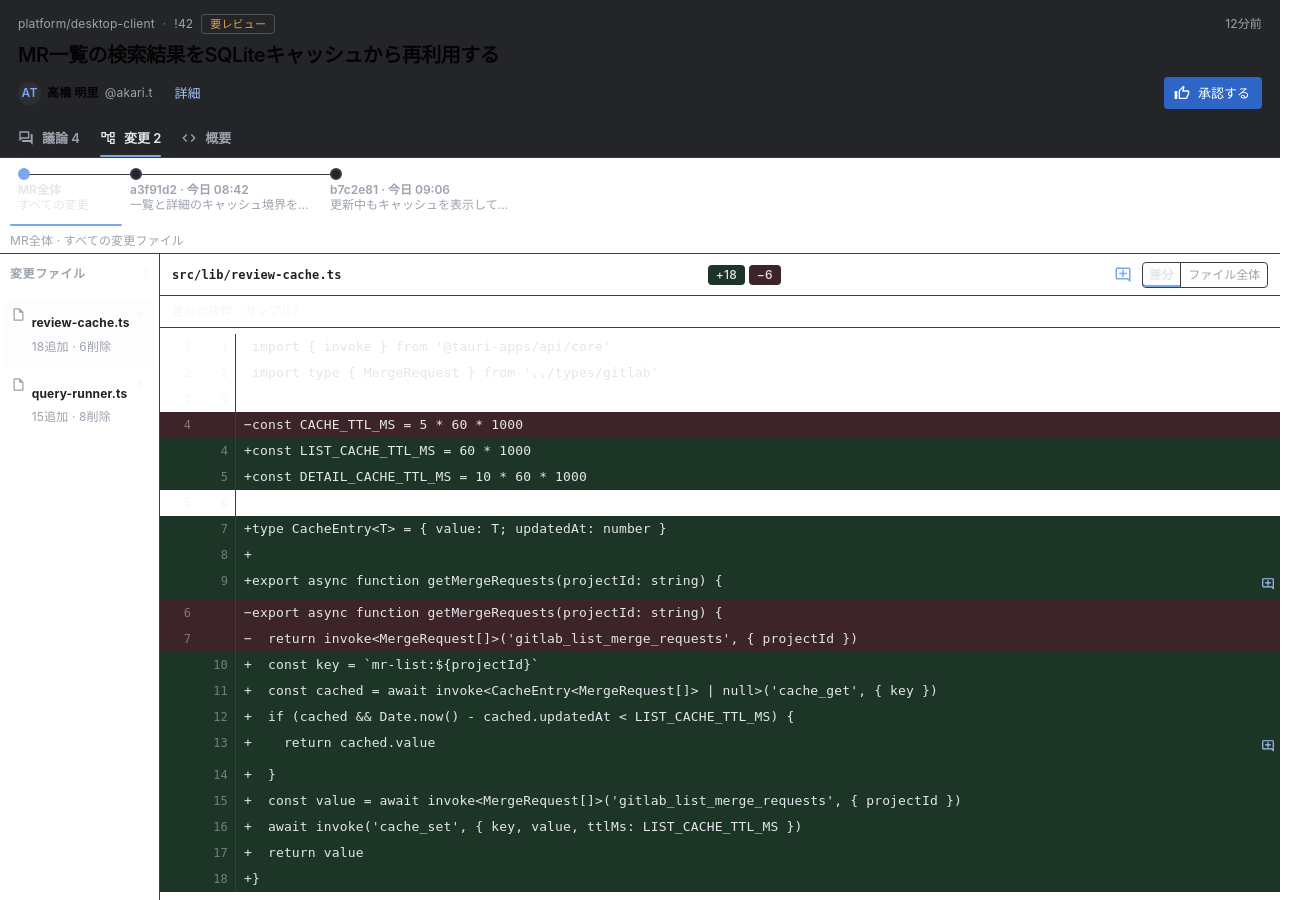
Scenario: MockReviewPane › switches between the full MR and parent-to-selected-commit diffs
The image size is (1292, 900).
Expected: the text "MR全体 · すべての変更ファイル" is shown, left=10, top=233, right=184, bottom=248
What coordinates should you click on to do the following:
click the tab "b7c2e81 · 今日 09:06 更新中もキャッシュを表示して静かに再検証する"
I would click on:
 (422, 193)
Its box is left=322, top=160, right=522, bottom=226.
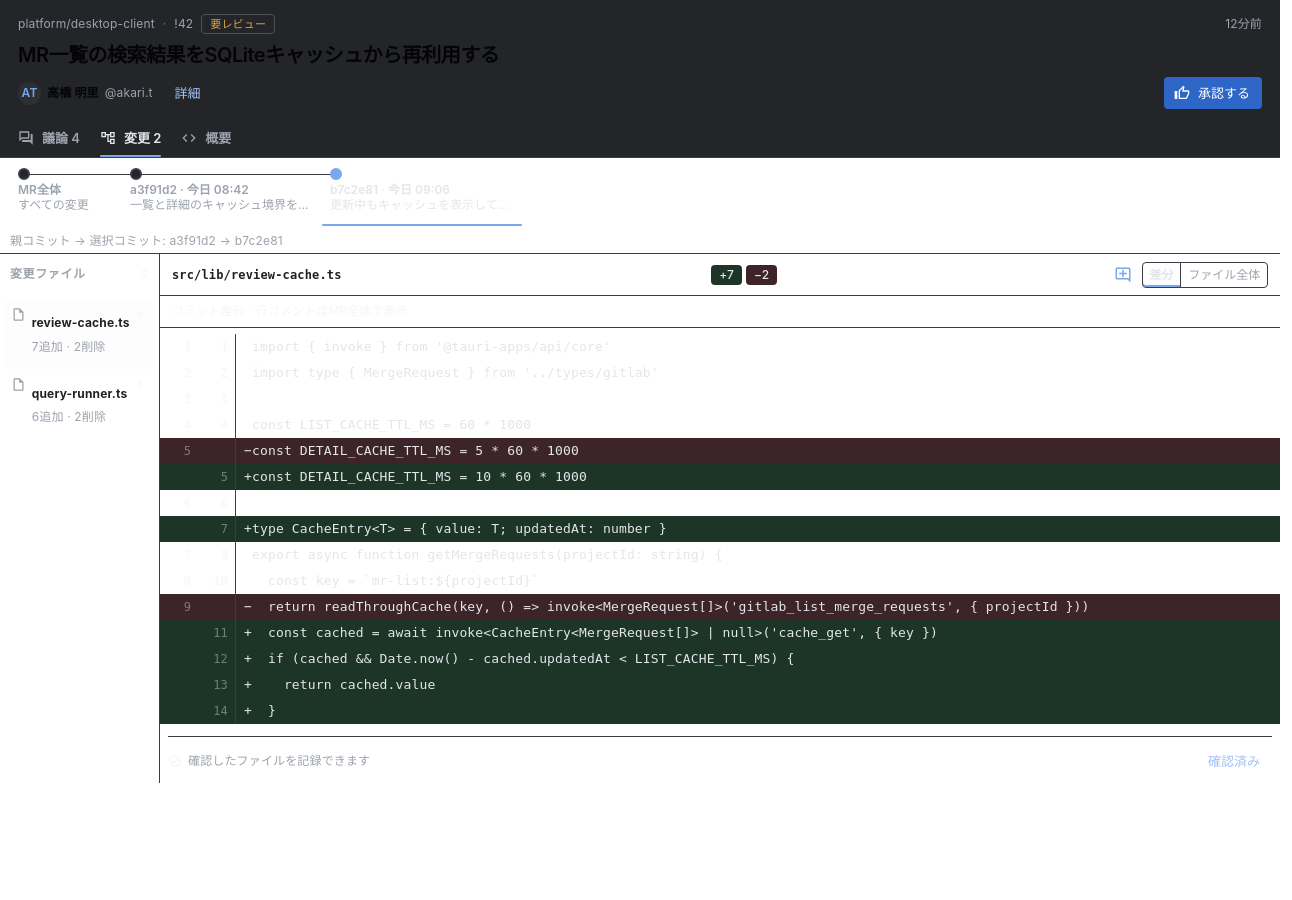
Expected: the text "+const DETAIL_CACHE_TTL_MS = 10 * 60 * 1000" is shown, left=236, top=466, right=595, bottom=487
Expected: the text "コミット差分 · 行コメントはMR全体で表示" is shown, left=160, top=296, right=1280, bottom=328
What coordinates should you click on to do the following:
click the tab "a3f91d2 · 今日 08:42 一覧と詳細のキャッシュ境界を分ける"
I would click on:
 (222, 193)
Its box is left=122, top=160, right=322, bottom=226.
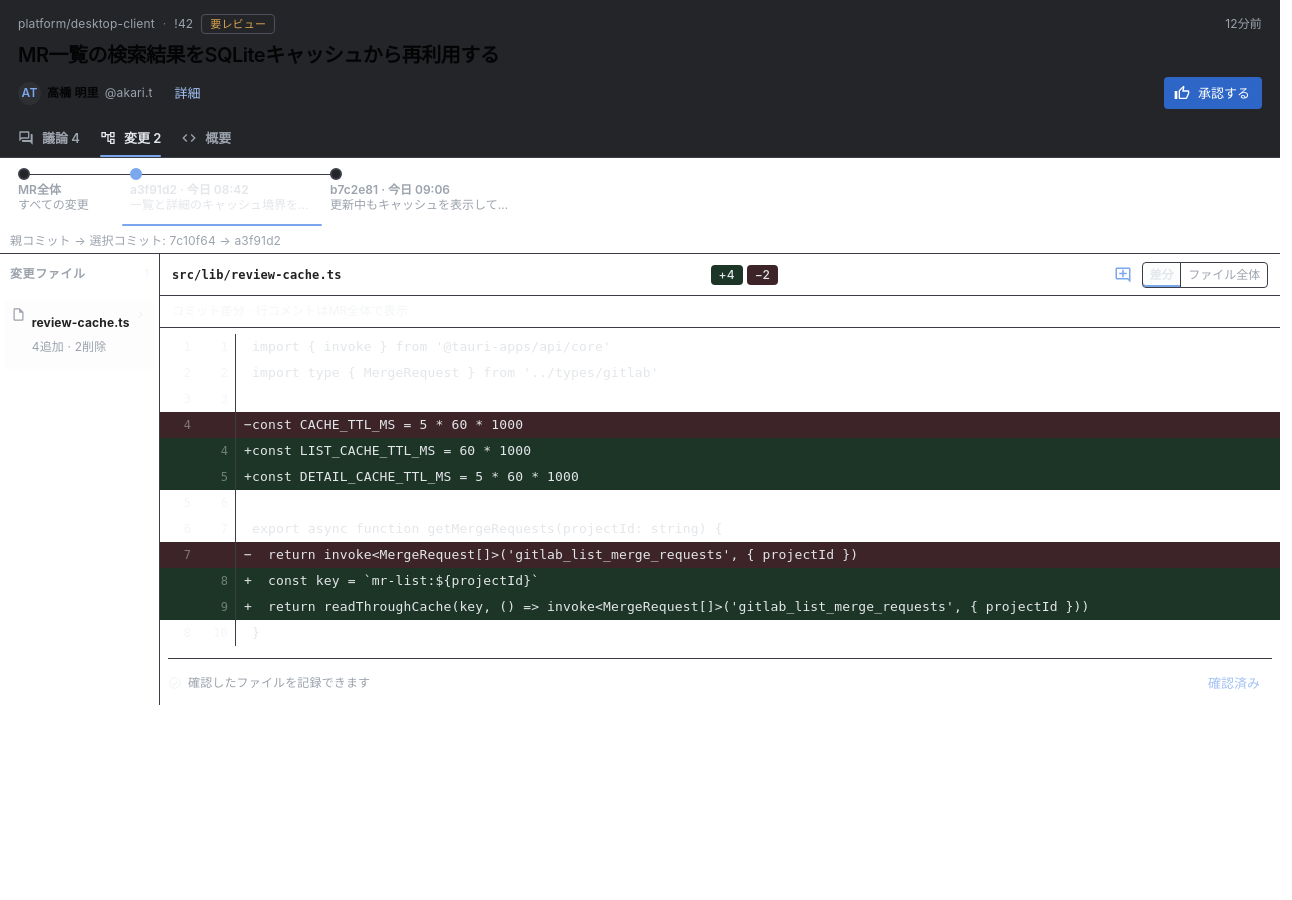
Expected: the text "+const DETAIL_CACHE_TTL_MS = 5 * 60 * 1000" is shown, left=236, top=466, right=587, bottom=487
Expected: the text "DETAIL_CACHE_TTL_MS = 10 * 60 * 1000" is gone
What coordinates should you click on to do the following:
click the tab "MR全体 すべての変更"
I would click on:
 (66, 193)
Its box is left=10, top=160, right=122, bottom=226.
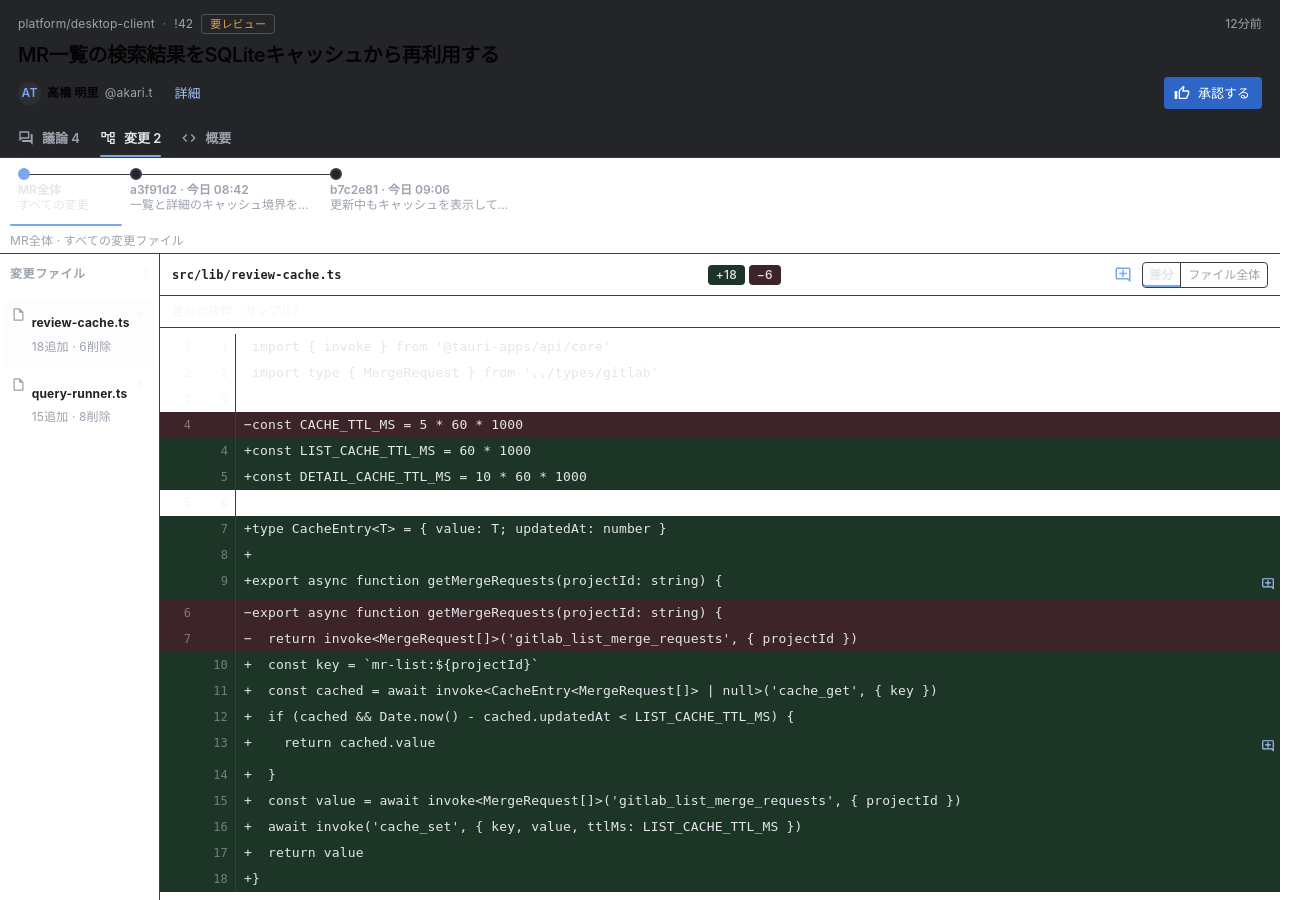
Expected: the text "MR全体 · すべての変更ファイル" is shown, left=10, top=233, right=184, bottom=248
Expected: the button with aria-label "変更ファイル src/search/query-runner.ts" is shown, left=5, top=369, right=154, bottom=440
